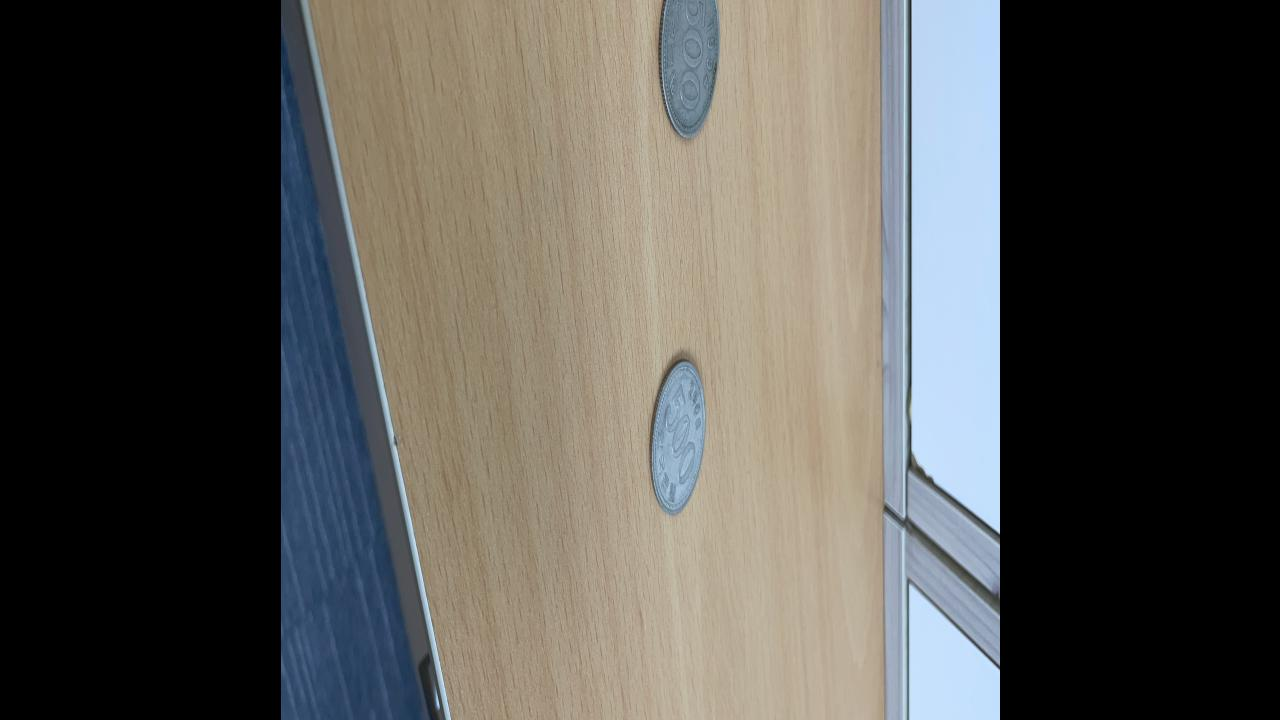coin: (648, 356, 708, 524), (656, 0, 722, 144)
